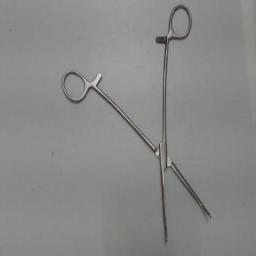Lahey Forceps: (58, 2, 220, 244)
